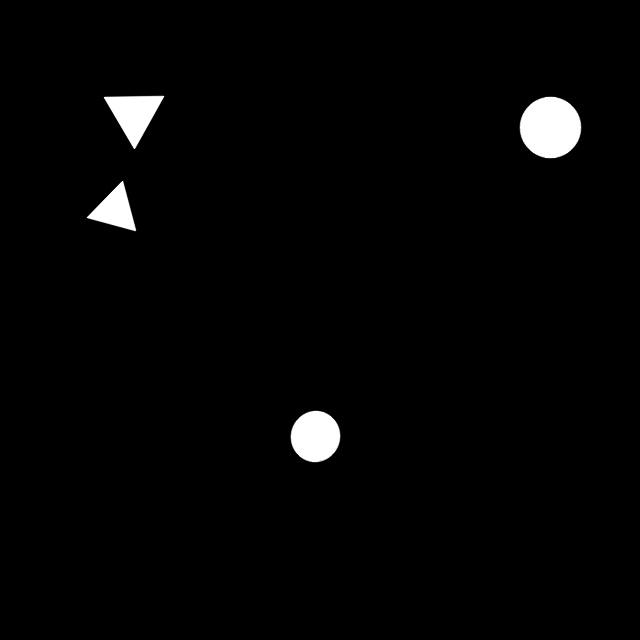Circle: (513, 87, 590, 170), (283, 402, 347, 474)
Triangle: (91, 84, 176, 161), (78, 169, 149, 245)
